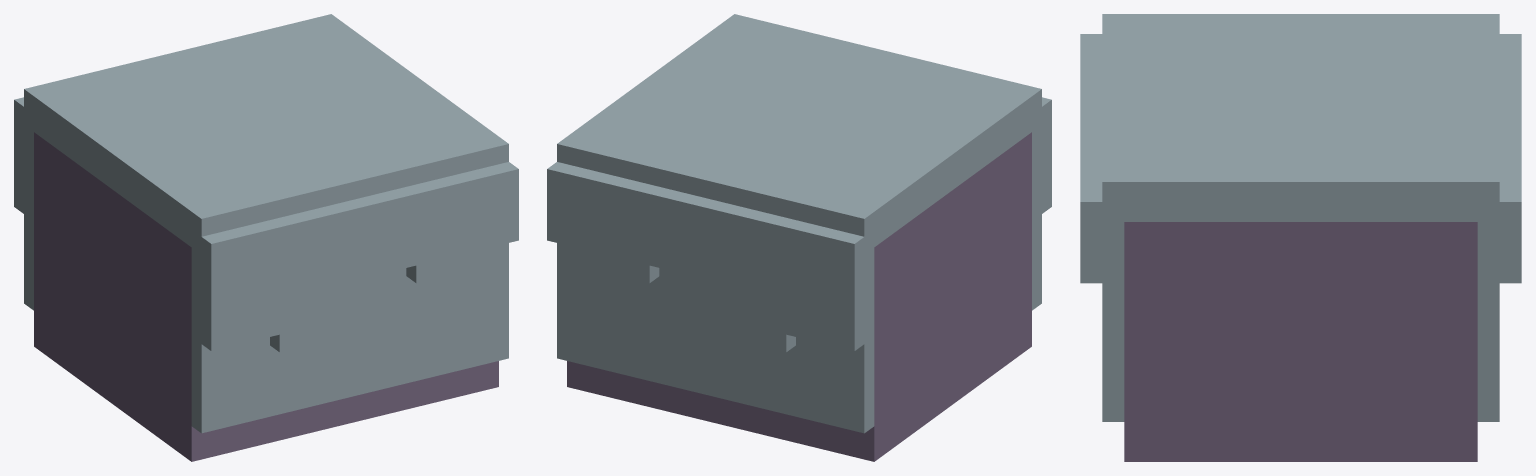
The model's file is Floors-12.obj.
3 views of the same model, side by side, from view 1: azimuth 30°, elevation 25°; view 2: azimuth 150°, elevation 25°; view 3: azimuth 270°, elevation 25° (orthographic). The views are drawn at different scales.
Bounding box in the file's own units: 1.8 × 1.4 × 2.
